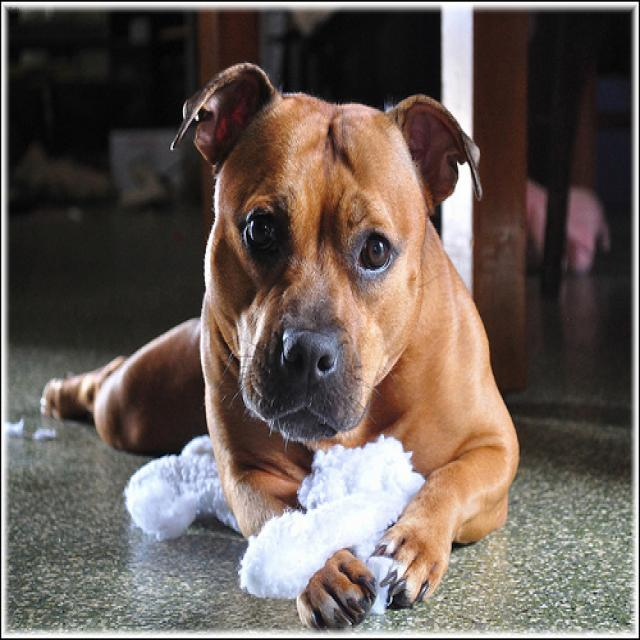dog-staffordshire_bull_terrier: (29, 53, 525, 637)
